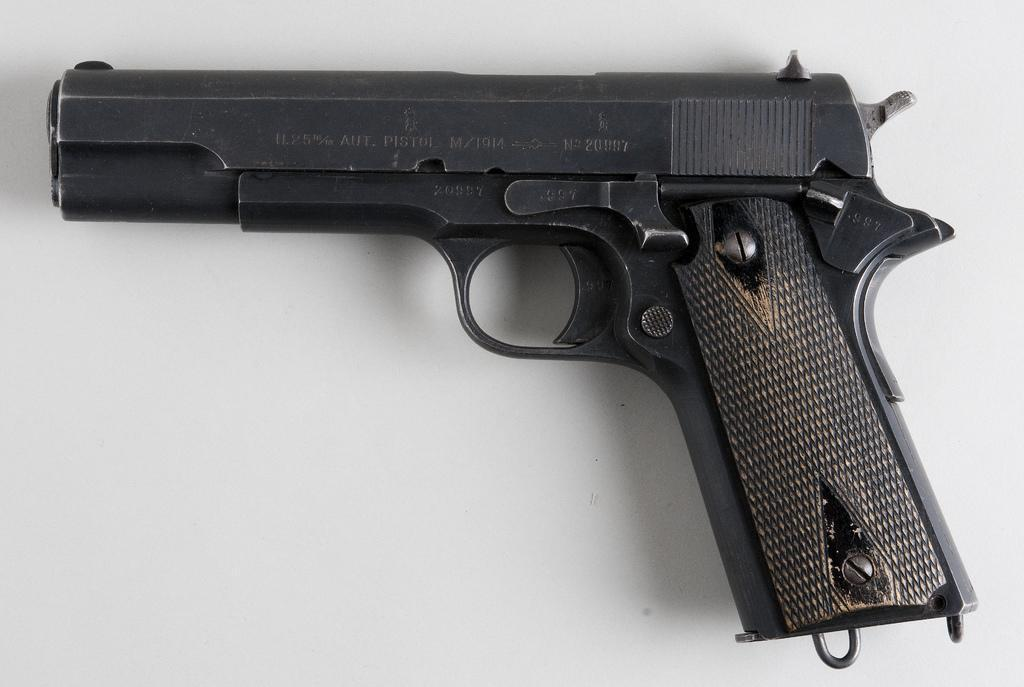gun: (45, 48, 980, 674)
